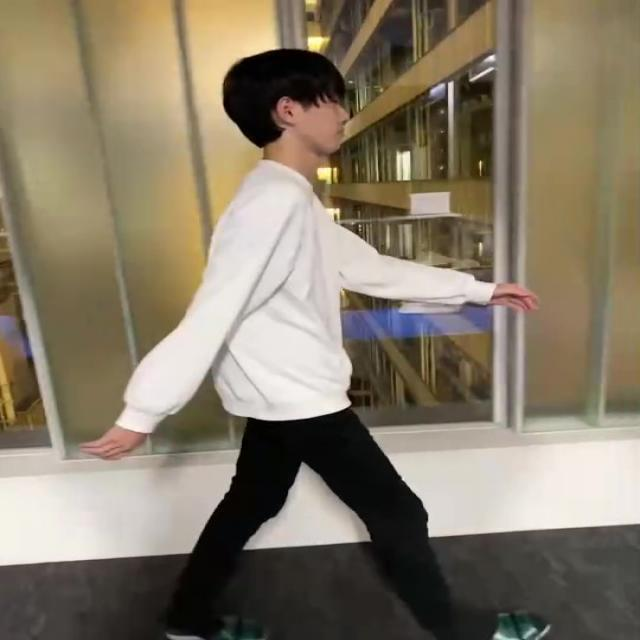direk: (80, 47, 556, 640)
